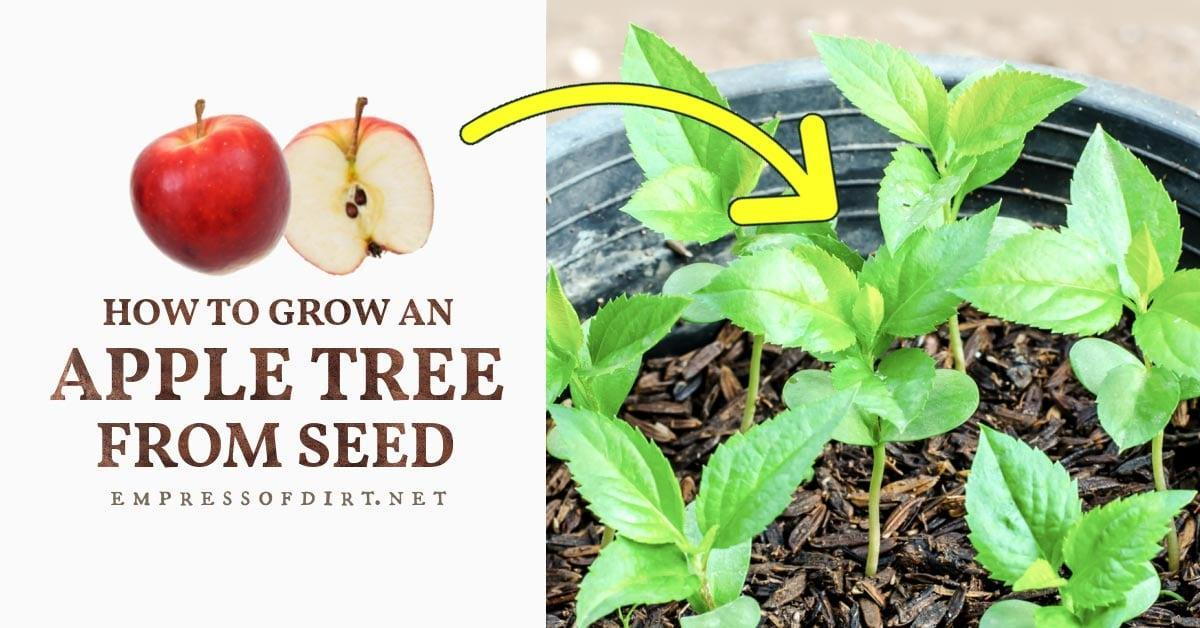apple: (129, 107, 292, 277)
